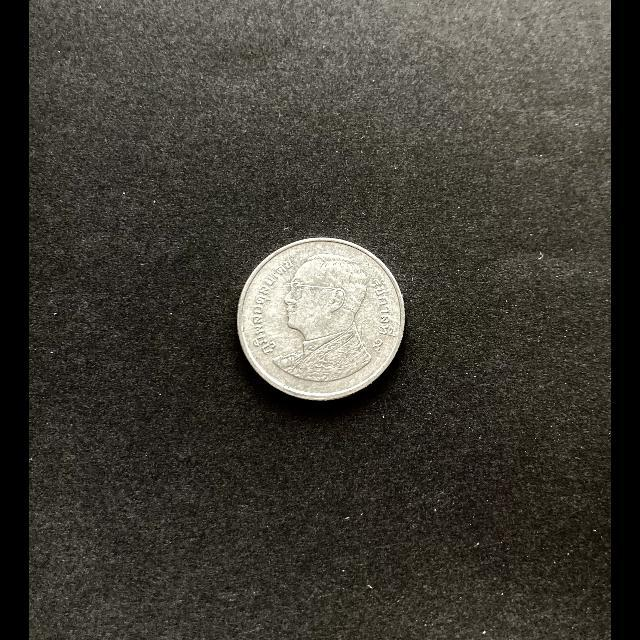1 Bath: (233, 236, 409, 406)
